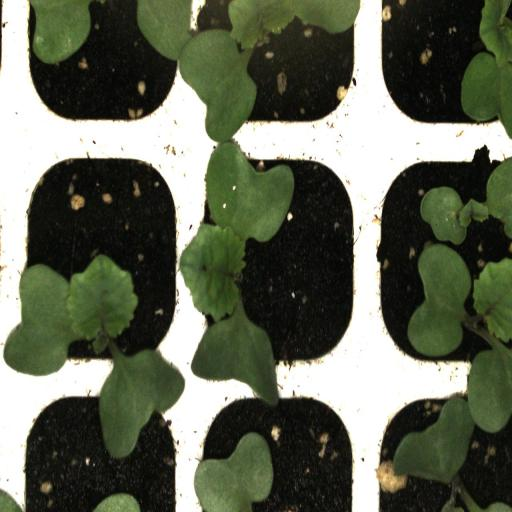seedling: (188, 138, 366, 382), (13, 136, 187, 384), (188, 0, 366, 136)
twoseedling: (367, 138, 512, 384)
